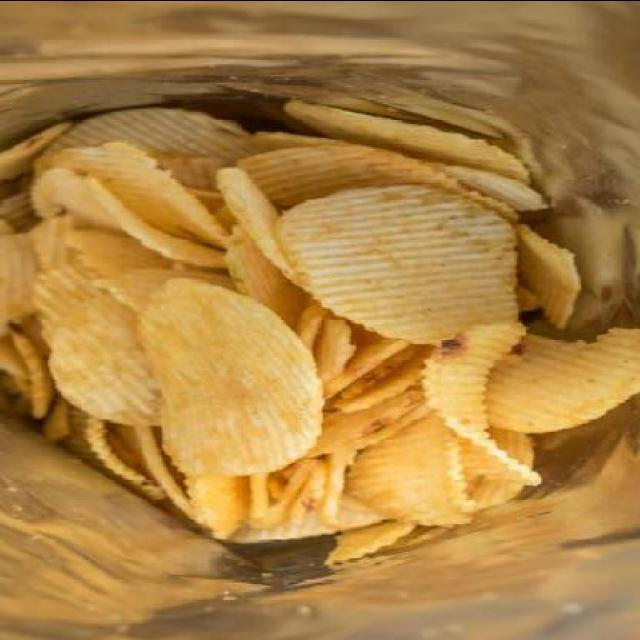Chips: (12, 75, 616, 562)
